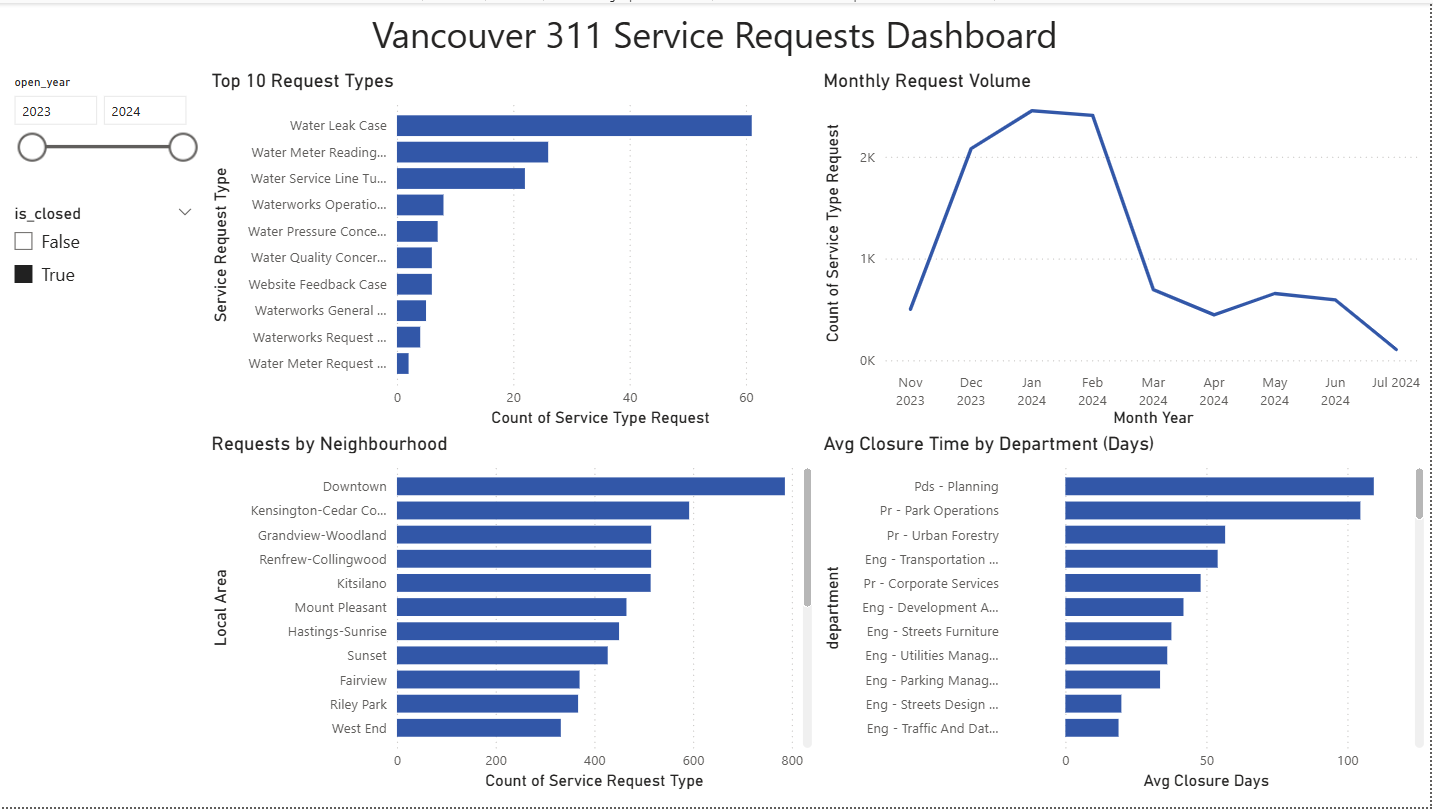

Layout of this report page (visuals, bound fields, positions):
{"tool":"powerbi","page":{"name":"Page 1","canvas":[1280,720],"ordinal":0},"visuals":[{"type":"clusteredBarChart","title":"Top 10 Request Types","fields":{"Category":["clean_311.service_request_type"],"Y":["CountNonNull(clean_311.service_request_type)"]},"box":[184.8,59.3,547.6,324.9],"z":0},{"type":"lineChart","title":"Monthly Request Volume","fields":{"Category":["DateTable.MonthYear"],"Y":["CountNonNull(clean_311.service_request_type)"]},"box":[732.4,59.3,547.6,324.9],"z":1000},{"type":"clusteredBarChart","title":"Requests by Neighbourhood","fields":{"Category":["clean_311.local_area"],"Y":["CountNonNull(clean_311.service_request_type)"]},"box":[184.8,384.2,547.6,324.9],"z":2000},{"type":"clusteredBarChart","title":"Avg Closure Time by Department (Days)","fields":{"Category":["clean_311.department"],"Y":["clean_311.Avg Closure Days"]},"box":[732.4,384.2,547.6,324.9],"z":3000},{"type":"slicer","fields":{"Values":["clean_311.open_year"]},"box":[0,59.3,184.8,115.7],"z":3001},{"type":"slicer","fields":{"Values":["clean_311.is_closed"]},"box":[0,175.1,184.8,93.4],"z":3002},{"type":"textbox","box":[0,0,1280,59.3],"z":3003}]}

Visuals, with their boxes in screenshot pixels (x1, y1, x2, y2), scaled from the page's 1280x720 canvas onto the 1433x810 screenshot:
"Top 10 Request Types" clusteredBarChart: (207, 67, 820, 432)
"Monthly Request Volume" lineChart: (820, 67, 1432, 432)
"Requests by Neighbourhood" clusteredBarChart: (207, 432, 820, 798)
"Avg Closure Time by Department (Days)" clusteredBarChart: (820, 432, 1432, 798)
slicer - clean_311.open_year: (0, 67, 207, 197)
slicer - clean_311.is_closed: (0, 197, 207, 302)
textbox: (0, 0, 1432, 67)
